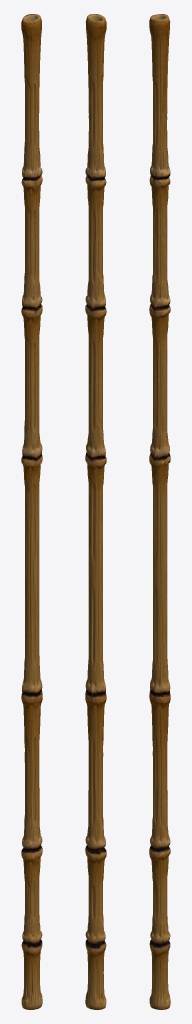
Rendered from qiong-bamboo.glb.
The picture shows the model from 3 angles, left to right: view 1: azimuth 30°, elevation 25°; view 2: azimuth 150°, elevation 25°; view 3: azimuth 330°, elevation 25°; orthographic projection.
Parts seen in each view (by area): view 1: tripo_node_f6942558-b7ee-480f-9f77-b32467a9972b; view 2: tripo_node_f6942558-b7ee-480f-9f77-b32467a9972b; view 3: tripo_node_f6942558-b7ee-480f-9f77-b32467a9972b.
Part boxes in pixels (bbox=[...]): tripo_node_f6942558-b7ee-480f-9f77-b32467a9972b: bbox=[21, 14, 42, 1009]; tripo_node_f6942558-b7ee-480f-9f77-b32467a9972b: bbox=[85, 14, 106, 1009]; tripo_node_f6942558-b7ee-480f-9f77-b32467a9972b: bbox=[149, 14, 170, 1009].
Bounding box in the file's own units: 0.032 × 1.55 × 0.0286.
Materials: 1 (1 with a texture image).
